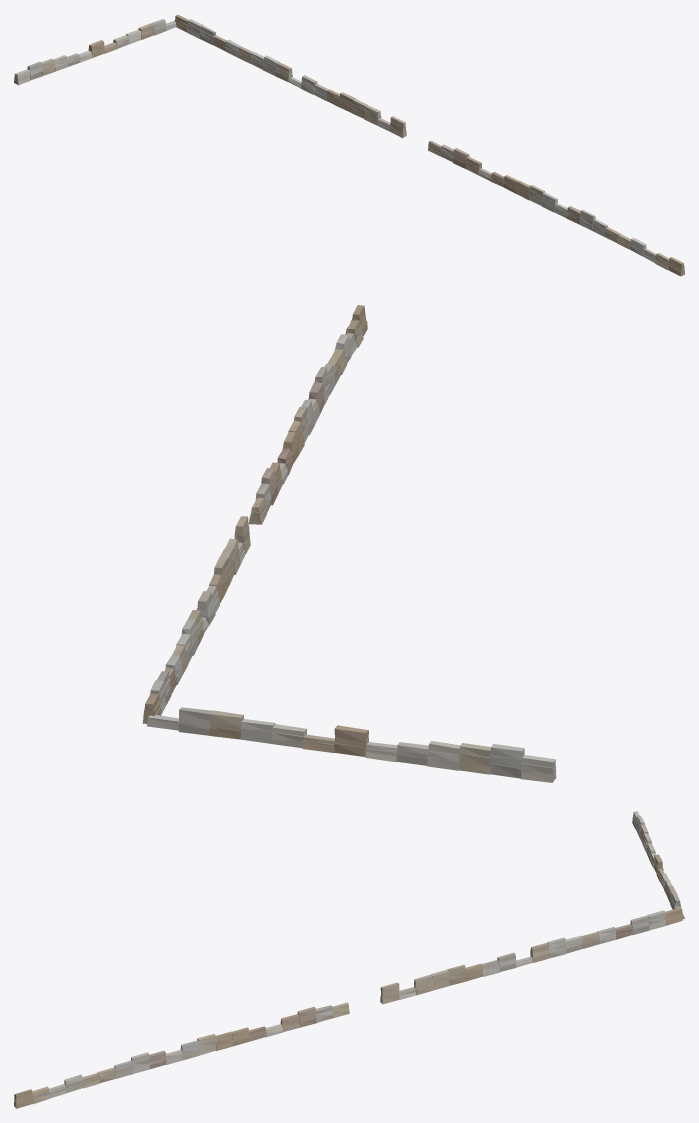
Rendered from farm_-22_-20_mid.glb.
The picture shows the model from 3 angles, top to bottom: view 1: azimuth 30°, elevation 25°; view 2: azimuth 150°, elevation 25°; view 3: azimuth 270°, elevation 25°; orthographic projection. The views are drawn at different scales.
Parts seen in each view (by area): view 1: geometry_0; view 2: geometry_0; view 3: geometry_0.
Part boxes in pixels (x1,y1,x2,y2): geometry_0: (14,14,684,276); geometry_0: (142,305,556,782); geometry_0: (14,811,684,1108).
Size of the model in its own units: 42.61 by 9.42 by 59.08.
